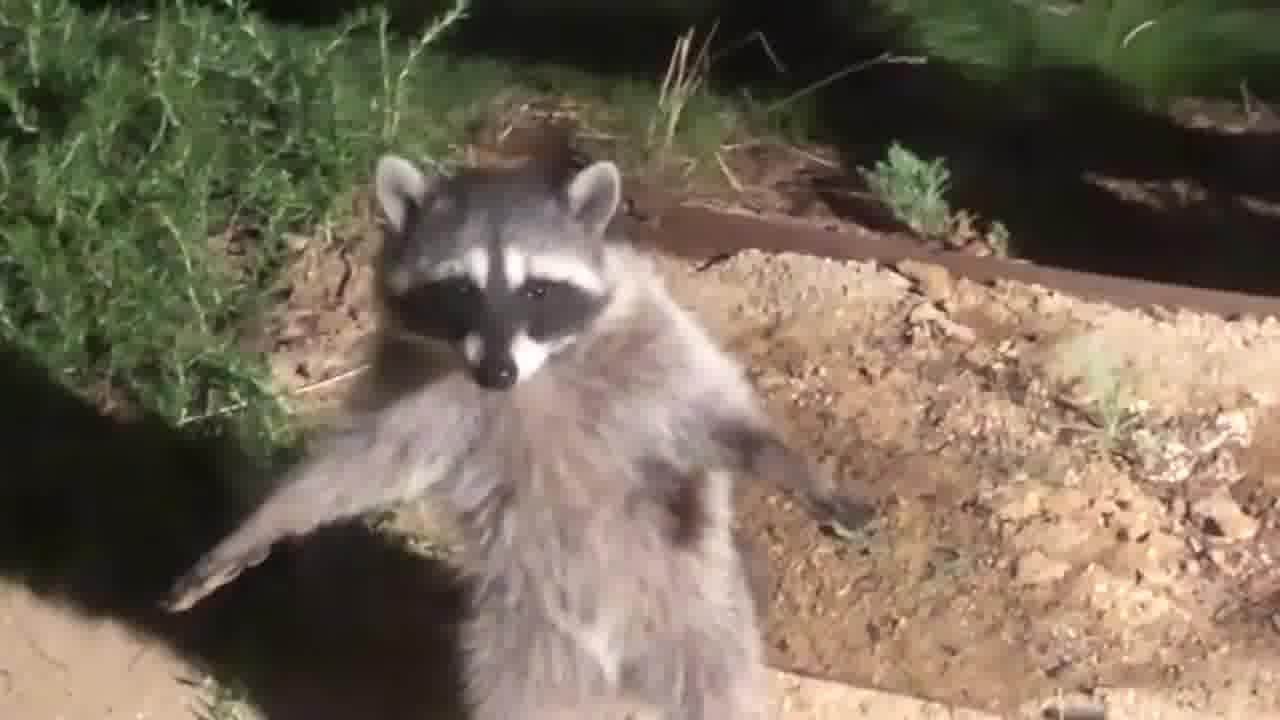raccoon: (169, 157, 885, 720)
